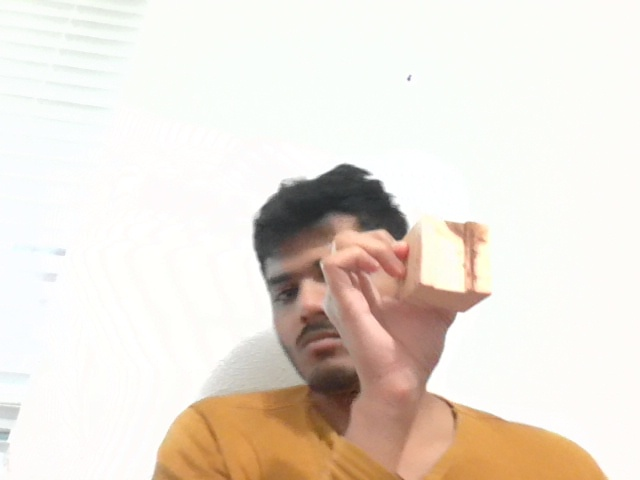NormalBlock: (400, 219, 493, 312)
